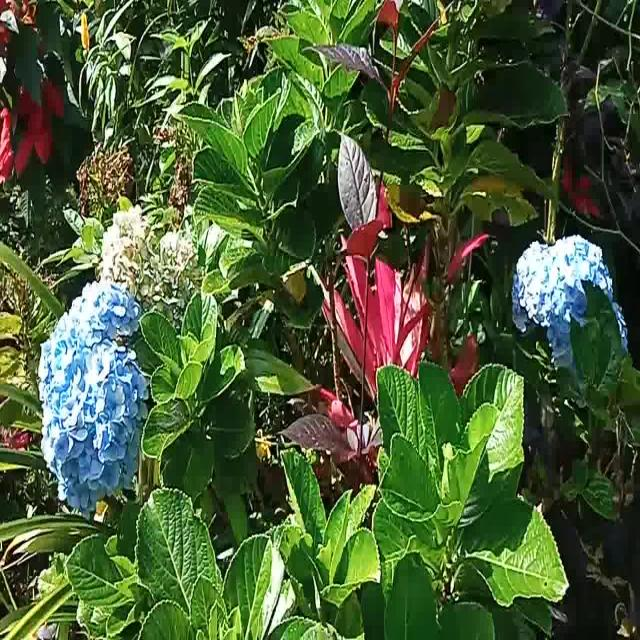Flower: (36, 275, 144, 514), (512, 234, 630, 375)
